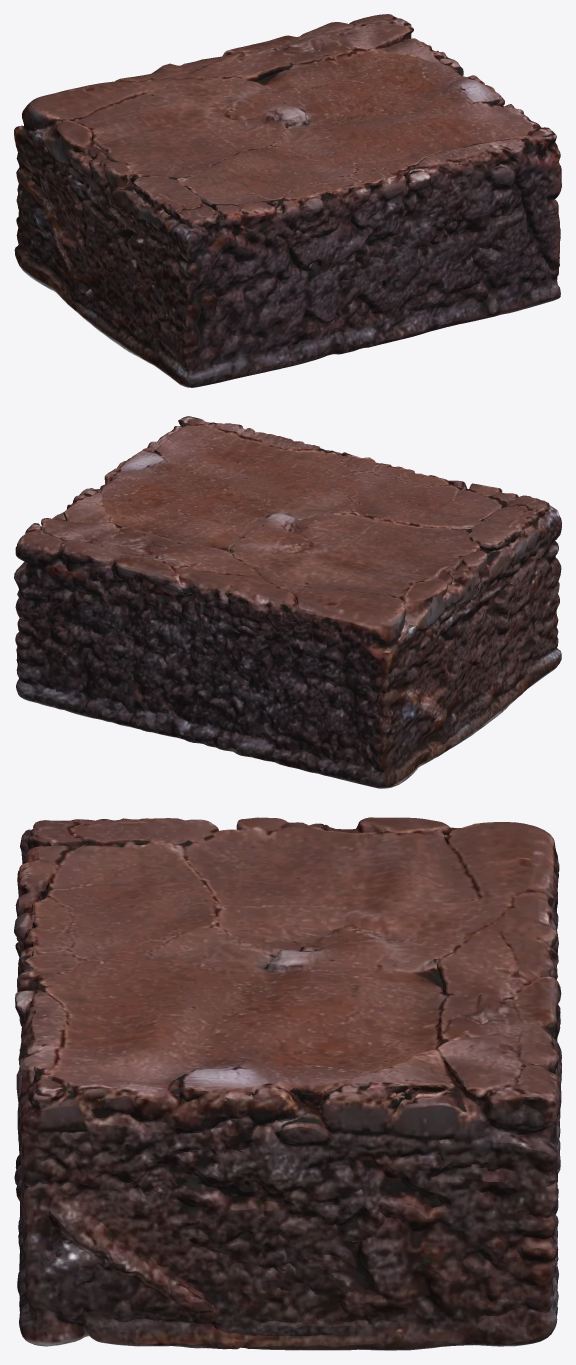
File: chocolate-brownie-0.glb
The picture shows the model from 3 angles, top to bottom: view 1: azimuth 30°, elevation 25°; view 2: azimuth 150°, elevation 25°; view 3: azimuth 270°, elevation 25°; orthographic projection. The views are drawn at different scales.
Parts seen in each view (by area): view 1: brownie-physical-calibration-80x35x65mm; view 2: brownie-physical-calibration-80x35x65mm; view 3: brownie-physical-calibration-80x35x65mm.
Boxes of the visible parts, x1=… form: brownie-physical-calibration-80x35x65mm: x1=14, y1=14, x2=561, y2=387; brownie-physical-calibration-80x35x65mm: x1=14, y1=416, x2=561, y2=788; brownie-physical-calibration-80x35x65mm: x1=14, y1=817, x2=561, y2=1350.
Size of the model in its own units: 0.08 by 0.035 by 0.065.
1 material, 1 textured.
